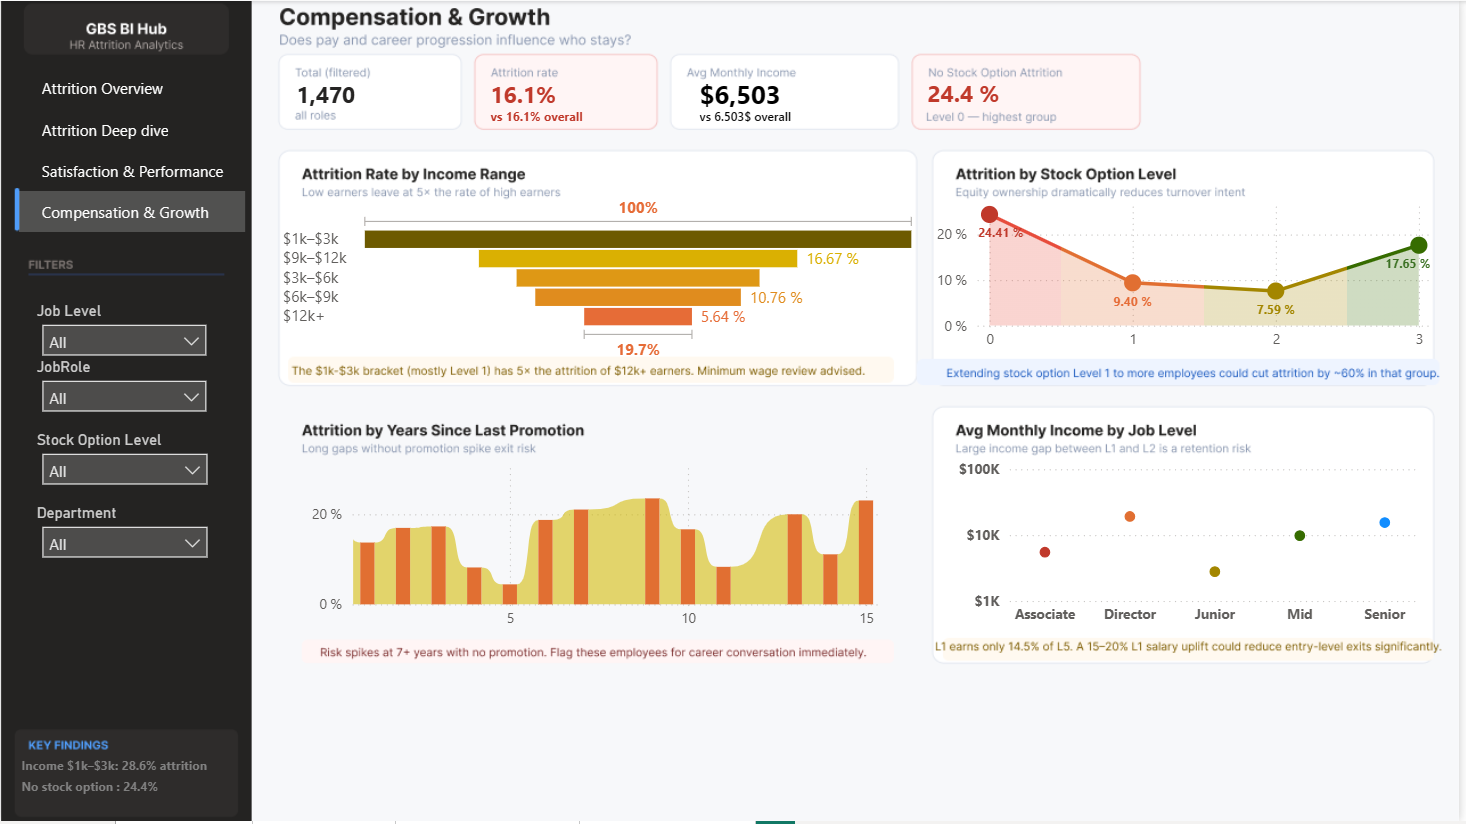

This screenshot's page, from the dashboard's own definition file:
{"tool":"powerbi","page":{"name":"Compensation & Growth","canvas":[1280,720],"ordinal":3},"visuals":[{"type":"actionButton","box":[15.4,57.6,197.6,37],"z":0},{"type":"actionButton","box":[15.4,94.7,197.6,36],"z":1000},{"type":"actionButton","box":[15.4,130.7,198.6,36],"z":2000},{"type":"actionButton","box":[15.4,166.7,198.6,36],"z":3000},{"type":"slicer","title":"Job Level","fields":{"Values":["Dim_JobLevel.JobLevel"]},"box":[26.8,264.4,163.6,49.4],"z":4000},{"type":"slicer","title":"JobRole","fields":{"Values":["Dim_JobRole.JobRole"]},"box":[26.8,313.8,163.6,49.4],"z":5000},{"type":"slicer","title":"Stock Option Level","fields":{"Values":["Dim_Employee.StockOptionLevel"]},"box":[26.8,377.6,164.6,48.4],"z":6000},{"type":"slicer","title":"Department","fields":{"Values":["Dim_Employee.Department"]},"box":[26.8,441.4,164.6,49.4],"z":7000},{"type":"cardVisual","fields":{"Data":["Attrition Overview.Total Employees"]},"box":[241.5,48.3,163.3,63.2],"z":8000},{"type":"cardVisual","fields":{"Data":["Attrition Overview.Attrition Rate %"]},"box":[411.8,49.2,167.7,61.5],"z":9000},{"type":"cardVisual","fields":{"Data":["Attrition Overview.VS Overall Month"]},"box":[595.3,52.7,177.4,94.8],"z":10000},{"type":"cardVisual","fields":{"Data":["Attrition Overview.Avg Monthly Income"]},"box":[595.1,39.2,125.1,81.2],"z":11000},{"type":"funnel","fields":{"Y":["Attrition Overview.Attrition Rate"],"Category":["Fact_Attrition.Income Range"]},"box":[247.4,166.6,556.7,147.7],"z":12000},{"type":"cardVisual","fields":{"Data":["Attrition Overview.No Stock Attrition Rate"]},"box":[795.7,46.8,197.7,65.9],"z":13000},{"type":"lineChart","fields":{"Category":["Dim_Employee.StockOptionLevel"],"Y":["Attrition Overview.Attrition Rate"]},"box":[821.1,170.6,434,139.7],"z":14000},{"type":"ribbonChart","fields":{"Category":["Fact_Attrition.YearsSinceLastPromotion"],"Y":["Attrition Overview.Attrition Rate"]},"box":[272.4,402.1,499.8,152.6],"z":15000},{"type":"scatterChart","fields":{"X":["Dim_JobLevel.JobLevelName"],"Y":["Attrition Overview.Avg Monthly Income"]},"box":[840,402.1,405.1,149.6],"z":16000},{"type":"cardVisual","fields":{"Data":["Attrition Overview.highest Income"]},"box":[0,661.4,259.4,18],"z":17000},{"type":"cardVisual","fields":{"Data":["Attrition Overview.Stock option Insight"]},"box":[0,679.4,259.4,18],"z":18000},{"type":"cardVisual","fields":{"Data":["Attrition Overview.VS Overall Label"]},"box":[411.8,69.4,228.3,61.5],"z":19000}]}

Visuals, with their boxes on the page's 1280x720 design canvas (x1, y1, x2, y2). These are canvas units, not pixel positions in the 1466x824 screenshot, which may show the page scaled, cropped or inside an application window:
actionButton: left=15, top=58, right=213, bottom=95
actionButton: left=15, top=95, right=213, bottom=131
actionButton: left=15, top=131, right=214, bottom=167
actionButton: left=15, top=167, right=214, bottom=203
"Job Level" slicer: left=27, top=264, right=190, bottom=314
"JobRole" slicer: left=27, top=314, right=190, bottom=363
"Stock Option Level" slicer: left=27, top=378, right=191, bottom=426
"Department" slicer: left=27, top=441, right=191, bottom=491
cardVisual - Attrition Overview.Total Employees: left=242, top=48, right=405, bottom=112
cardVisual - Attrition Overview.Attrition Rate %: left=412, top=49, right=580, bottom=111
cardVisual - Attrition Overview.VS Overall Month: left=595, top=53, right=773, bottom=148
cardVisual - Attrition Overview.Avg Monthly Income: left=595, top=39, right=720, bottom=120
funnel - Attrition Overview.Attrition Rate x Fact_Attrition.Income Range: left=247, top=167, right=804, bottom=314
cardVisual - Attrition Overview.No Stock Attrition Rate: left=796, top=47, right=993, bottom=113
lineChart - Dim_Employee.StockOptionLevel x Attrition Overview.Attrition Rate: left=821, top=171, right=1255, bottom=310
ribbonChart - Fact_Attrition.YearsSinceLastPromotion x Attrition Overview.Attrition Rate: left=272, top=402, right=772, bottom=555
scatterChart - Dim_JobLevel.JobLevelName x Attrition Overview.Avg Monthly Income: left=840, top=402, right=1245, bottom=552
cardVisual - Attrition Overview.highest Income: left=0, top=661, right=259, bottom=679
cardVisual - Attrition Overview.Stock option Insight: left=0, top=679, right=259, bottom=697
cardVisual - Attrition Overview.VS Overall Label: left=412, top=69, right=640, bottom=131
